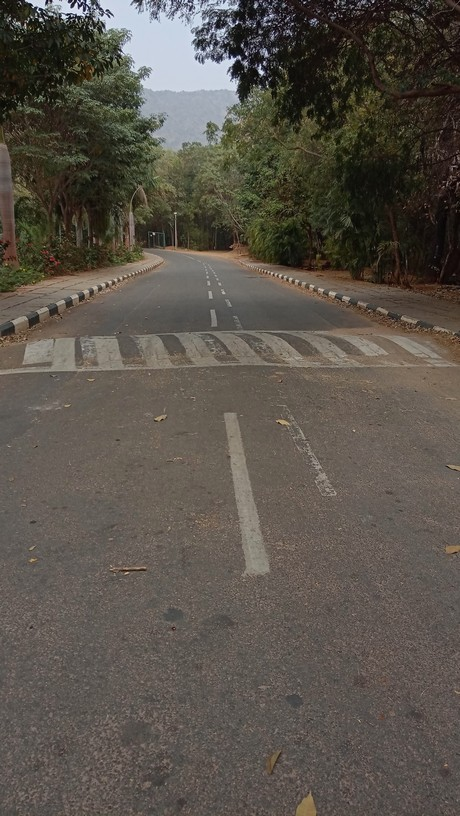bump: (1, 332, 459, 368)
